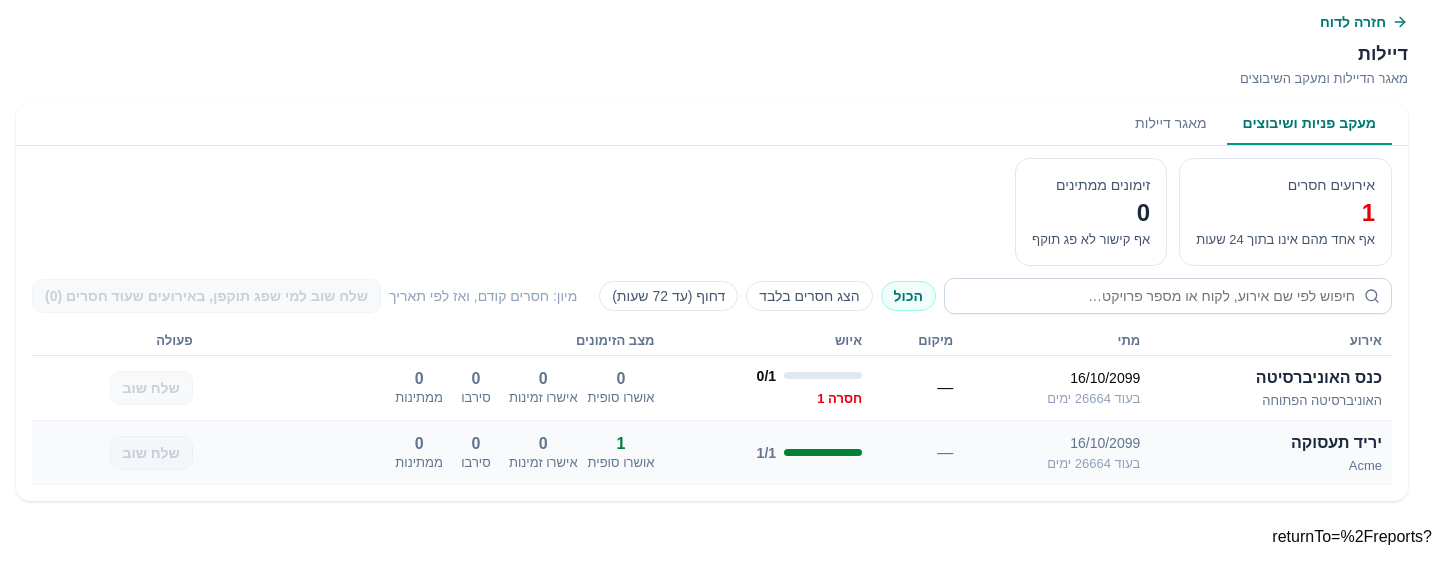
Scenario: Hostesses search across both real tabs › finds an event by  כנס
Expected: the row with test id "overview-row-702" is shown, [32, 420, 1392, 485]
Type " כנס " into the field with test id "overview-search".
click(1168, 296); type(" כנס ")  # box [944, 278, 1392, 314]
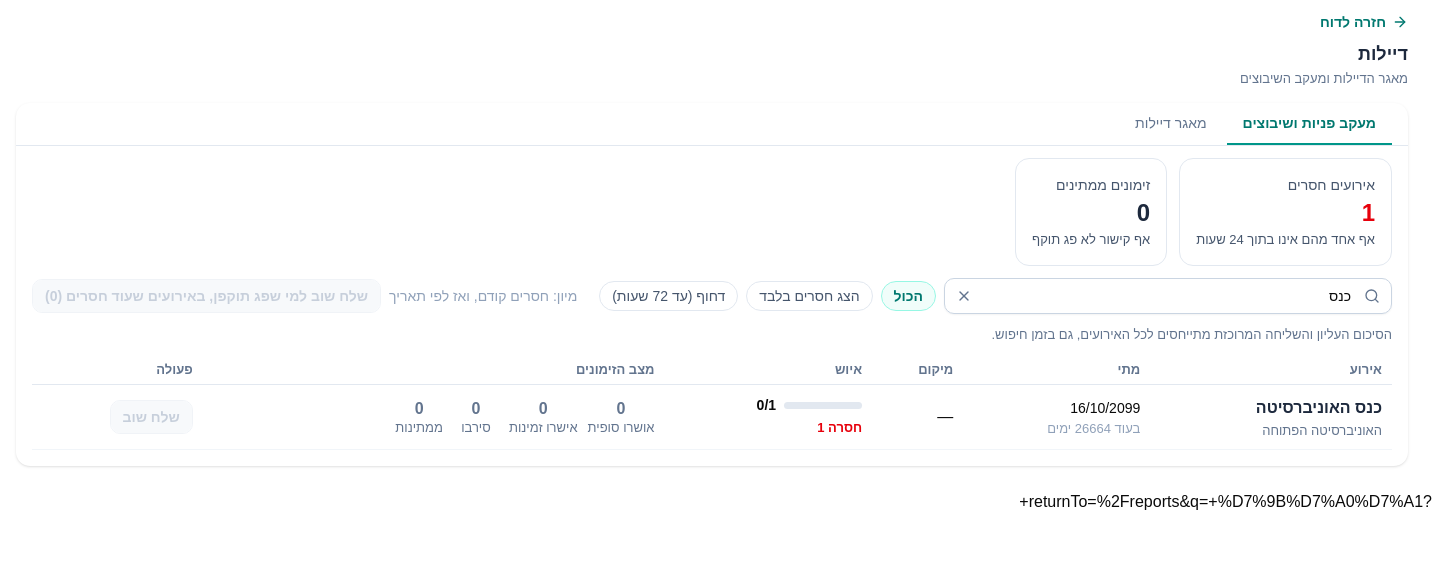
Expected: the row with test id "overview-row-701" is shown, [32, 385, 1392, 450]
Expected: the row with test id "overview-row-702" is gone
